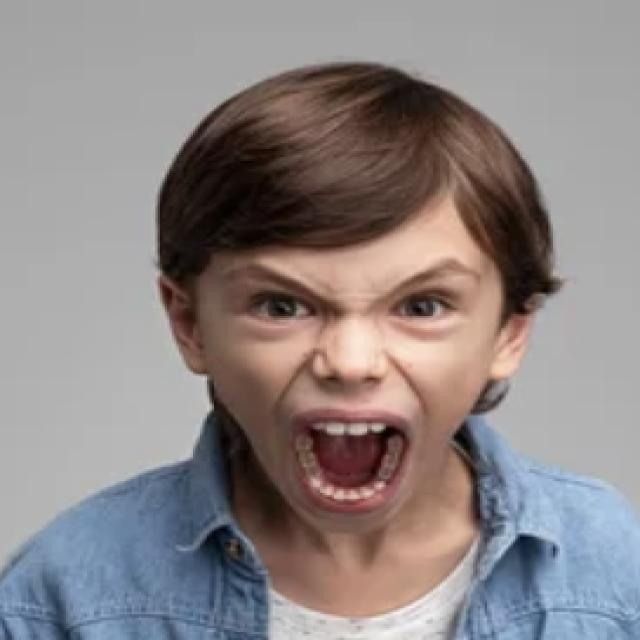angry: (162, 209, 535, 543)
